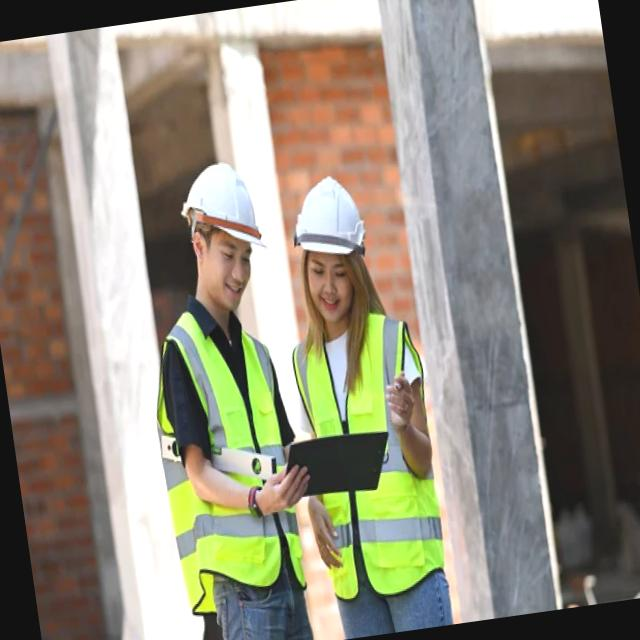helmet: (174, 154, 270, 262), (282, 169, 374, 273)
no-goggles: (299, 253, 362, 296), (199, 237, 255, 276)
vest: (135, 292, 314, 622), (285, 306, 455, 612)
